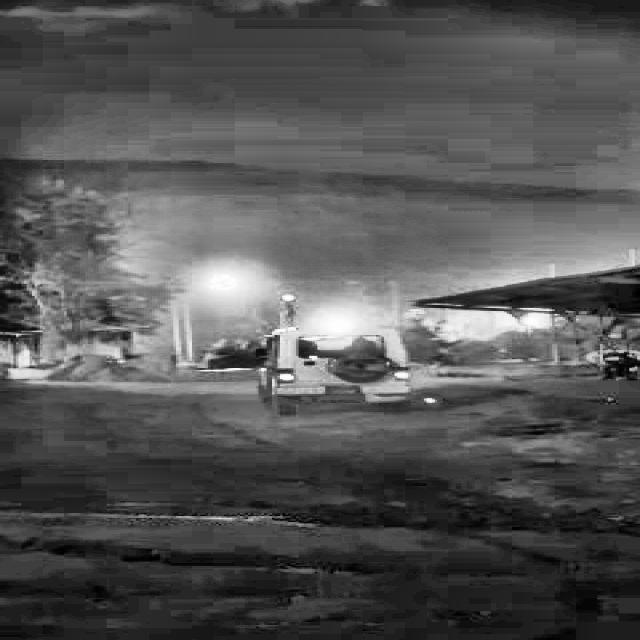light_vehicle: (258, 326, 424, 407)
